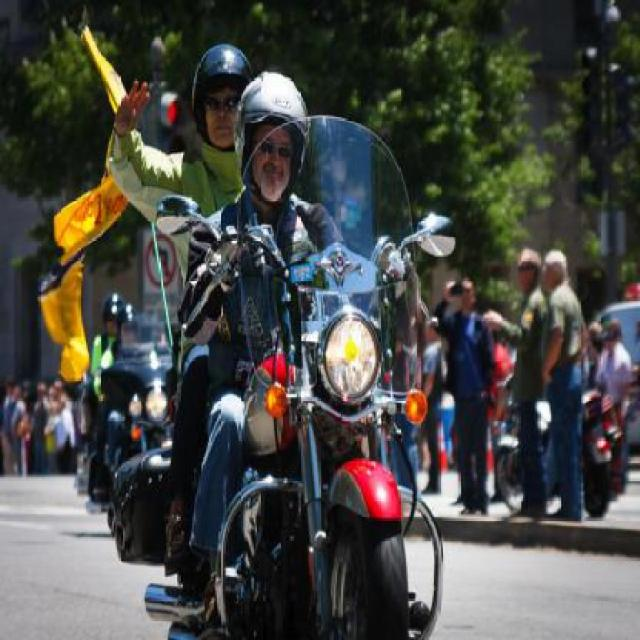Person: (181, 69, 347, 628), (107, 36, 250, 567), (484, 249, 548, 520), (432, 277, 498, 517), (543, 248, 589, 522), (592, 318, 633, 418), (88, 296, 124, 376), (27, 381, 51, 474), (46, 381, 76, 450), (6, 380, 26, 475), (17, 377, 32, 475)
